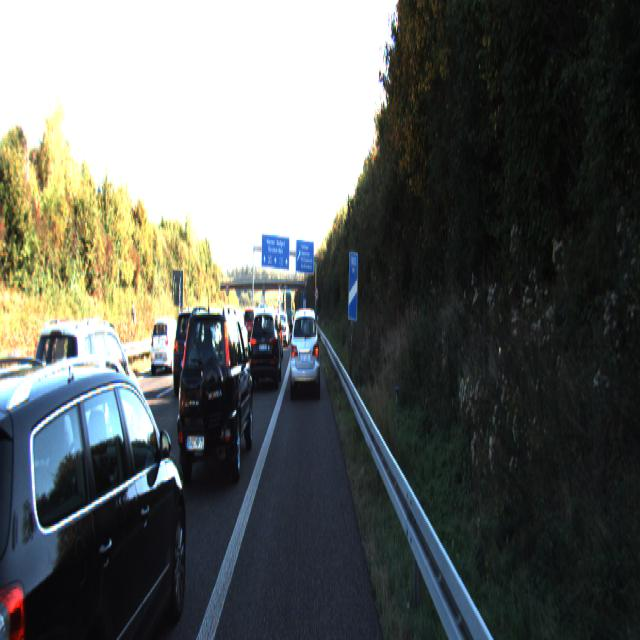Car: (0, 340, 193, 639), (25, 314, 142, 495), (173, 304, 254, 494), (170, 304, 215, 396), (249, 304, 282, 392), (290, 305, 320, 398), (150, 315, 186, 374), (264, 310, 284, 361), (274, 310, 288, 344)
